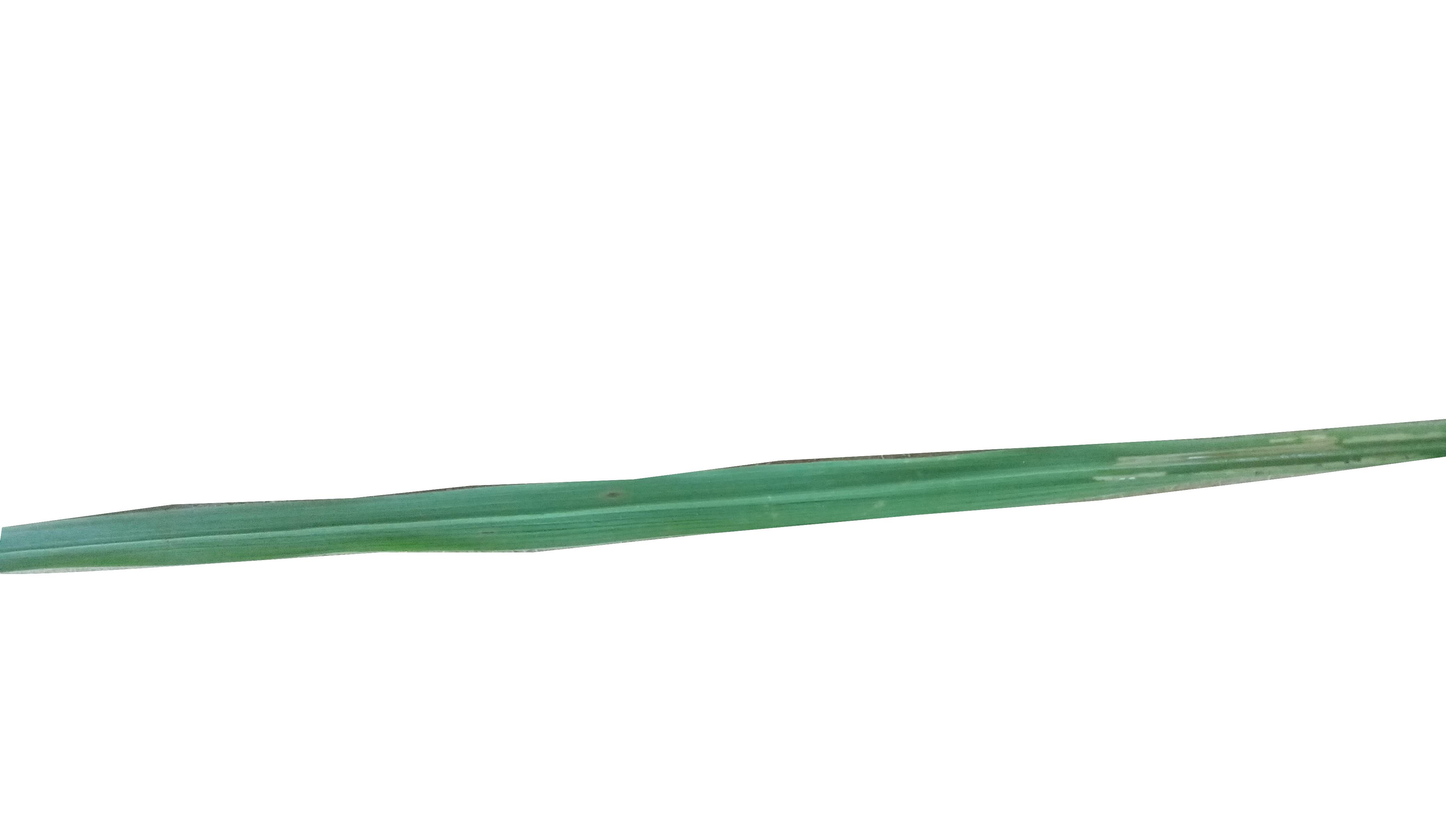Blight: (1085, 452, 1221, 483), (1256, 442, 1356, 467)
Brown spot: (603, 486, 629, 506)
